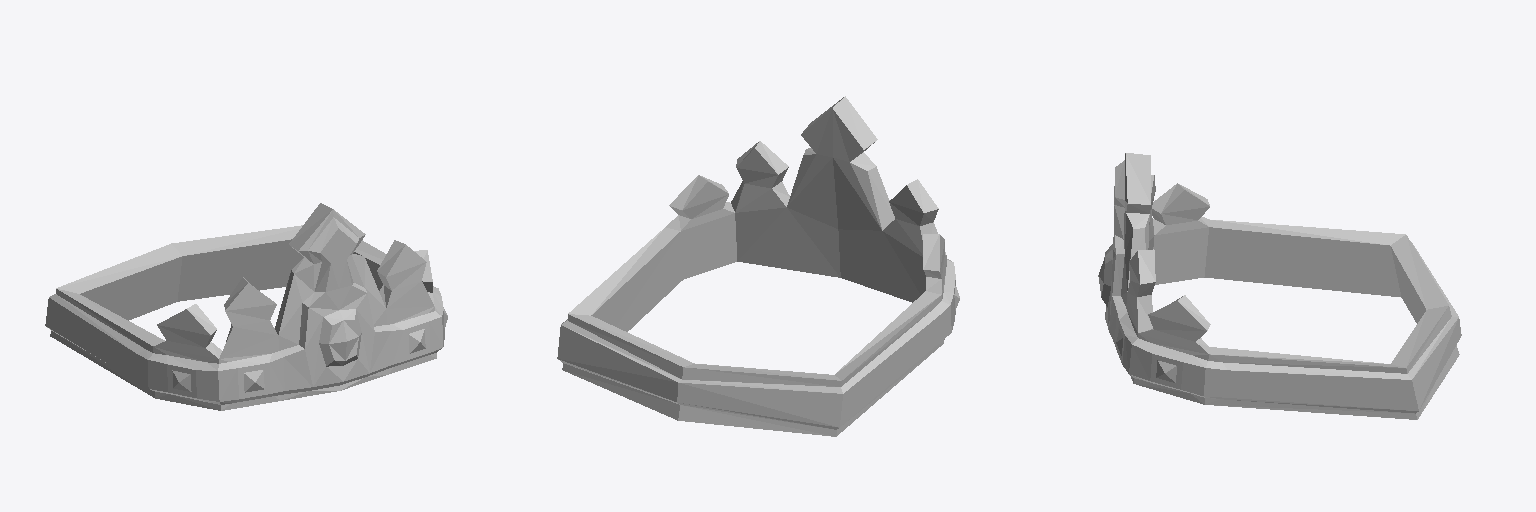
The model's file is SM_Chr_Attach_King_Crown_01.obj.
3 renders of one model, left to right at view 1: azimuth 30°, elevation 25°; view 2: azimuth 150°, elevation 25°; view 3: azimuth 270°, elevation 25°, orthographic.
Visible parts, largest first — view 1: SM_Chr_Attach_King_Crown_01; view 2: SM_Chr_Attach_King_Crown_01; view 3: SM_Chr_Attach_King_Crown_01.
Part boxes in pixels (x1,y1,x2,y2): SM_Chr_Attach_King_Crown_01: (45, 203, 447, 410); SM_Chr_Attach_King_Crown_01: (557, 96, 959, 436); SM_Chr_Attach_King_Crown_01: (1098, 153, 1461, 419).
Bounding box in the file's own units: 26.52 × 18 × 28.67.